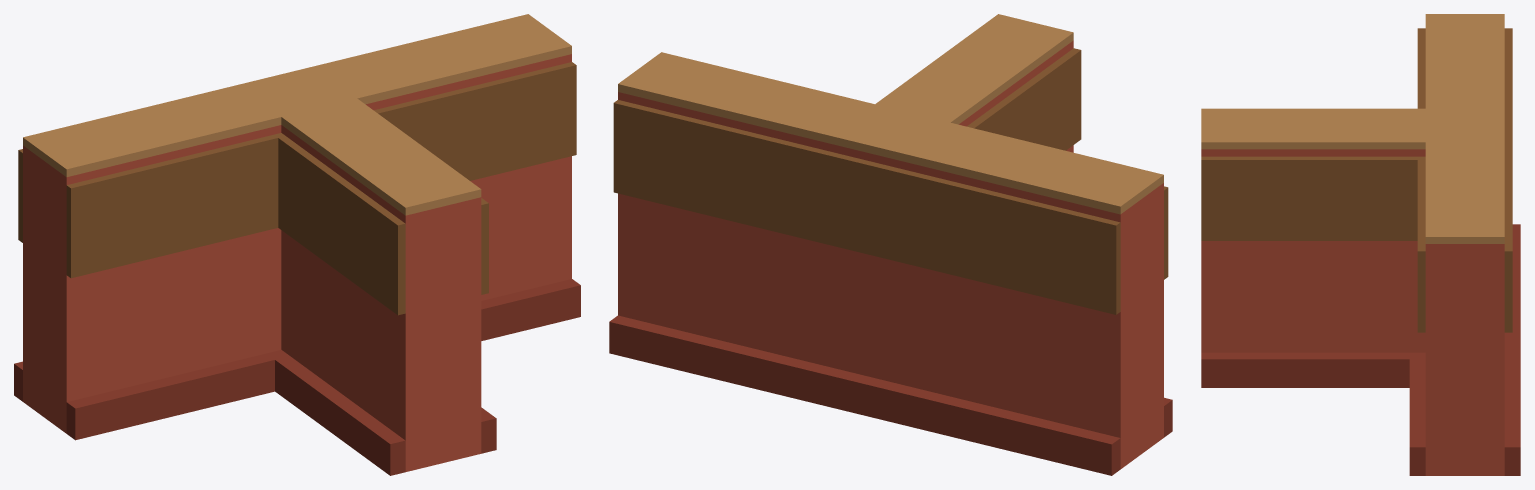
File: partition-tee.glb
3 renders of one model, left to right at view 1: azimuth 30°, elevation 25°; view 2: azimuth 150°, elevation 25°; view 3: azimuth 270°, elevation 25°, orthographic. The views are drawn at different scales.
Visible parts, largest first — view 1: partition-tee; view 2: partition-tee; view 3: partition-tee.
Boxes of the visible parts, left/top/right/bottom form: partition-tee: left=14, top=14, right=580, bottom=475; partition-tee: left=609, top=14, right=1172, bottom=475; partition-tee: left=1201, top=14, right=1520, bottom=475.
Size of the model in its own units: 1 by 0.5 by 0.605.
Materials: 1 (1 with a texture image).
